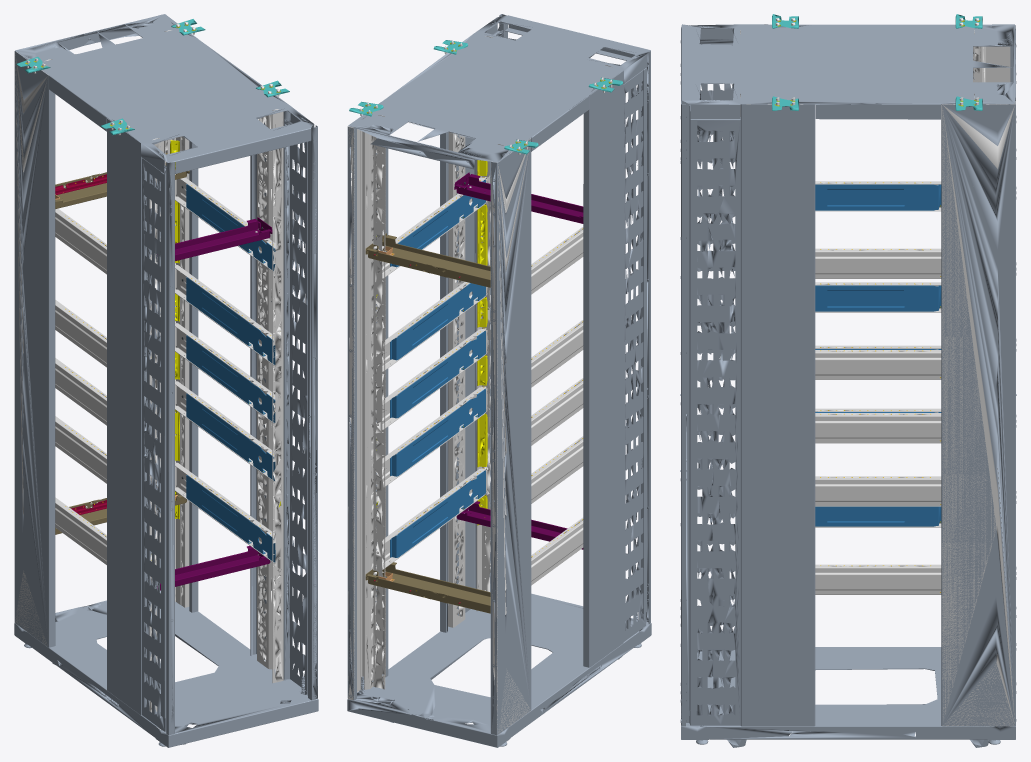
Rendered from nv-mgx-rack-v1-2-rev7.mobile.glb.
3 renders of one model, left to right at view 1: azimuth 30°, elevation 25°; view 2: azimuth 150°, elevation 25°; view 3: azimuth 270°, elevation 25°, orthographic. The views are drawn at different scales.
Visible parts, largest first — view 1: NVIDIA_COVER_TOP_V2_MOD [0001], NVIDIA_POST_LR_OUTER_V2_MOD [0077], NVIDIA_LC_OUTER_V2_MOD [0075], NVIDIA_BASE_V2_MOD [0111], NVIDIA_POST_RF_1_V2_MOD [0073], NVIDIA_POST_LF_2_V2_MOD [0074], NVIDIA_LF_CORNER_V2_MOD [0043], NV_POST_ORV3_PST_SAME_V2_MOD [0205], SOLID [0212], NVIDIA_RF_CORNER_V2_MOD [0058], NVIDIA_POST_RC_OUTER_V2_MOD [0076], NVIDIA_POST_RR_OUTER_V2_MOD [0094] (+23 smaller); view 2: NVIDIA_COVER_TOP_V2_MOD [0001], NVIDIA_LC_OUTER_V2_MOD [0075], NVIDIA_POST_LR_OUTER_V2_MOD [0077], NVIDIA_BASE_V2_MOD [0111], NVIDIA_POST_LF_2_V2_MOD [0074], NV_POST_ORV3_PST_SAME_V2_MOD [0204], NVIDIA_POST_RR_OUTER_V2_MOD [0094], SOLID [0214], NVIDIA_POST_RC_OUTER_V2_MOD [0076], NV_POST_RR_OUTER_2-5MM_V1-2 [0186], NV_POST_ORV3_PST_SAME_V2_MOD [0205], NVIDIA_LF_CORNER_V2_MOD [0043] (+23 smaller); view 3: NVIDIA_POST_RC_OUTER_V2_MOD [0076], NVIDIA_POST_RR_OUTER_V2_MOD [0094], NVIDIA_COVER_TOP_V2_MOD [0001], NVIDIA_POST_RF_1_V2_MOD [0073], NV_POST_RR_OUTER_2-5MM_V1-2 [0186], NVIDIA_BASE_V2_MOD [0111], NVIDIA_RF_CORNER_V2_MOD [0058], SOLID [0866], SOLID [0630], SOLID [0748], SOLID [0984], SOLID [1102] (+7 smaller).
Part boxes in pixels (x1,y1,x2,y2): NVIDIA_COVER_TOP_V2_MOD [0001]: (15,14,314,173); NVIDIA_POST_LR_OUTER_V2_MOD [0077]: (14,51,55,647); NVIDIA_LC_OUTER_V2_MOD [0075]: (107,118,145,714); NVIDIA_BASE_V2_MOD [0111]: (14,590,318,747); NVIDIA_POST_RF_1_V2_MOD [0073]: (284,119,307,695); NVIDIA_POST_LF_2_V2_MOD [0074]: (142,158,166,731); NVIDIA_LF_CORNER_V2_MOD [0043]: (161,162,174,735); NV_POST_ORV3_PST_SAME_V2_MOD [0205]: (257,114,275,669); SOLID [0212]: (272,109,283,683); NVIDIA_RF_CORNER_V2_MOD [0058]: (308,125,317,700); NVIDIA_POST_RC_OUTER_V2_MOD [0076]: (250,111,290,680); NVIDIA_POST_RR_OUTER_V2_MOD [0094]: (158,14,198,612); NVIDIA_COVER_TOP_V2_MOD [0001]: (348,15,650,169); NVIDIA_LC_OUTER_V2_MOD [0075]: (583,70,623,667); NVIDIA_POST_LR_OUTER_V2_MOD [0077]: (490,138,531,735); NVIDIA_BASE_V2_MOD [0111]: (347,593,651,747); NVIDIA_POST_LF_2_V2_MOD [0074]: (623,68,645,641); NV_POST_ORV3_PST_SAME_V2_MOD [0204]: (360,130,373,689); NVIDIA_POST_RR_OUTER_V2_MOD [0094]: (347,102,388,700); SOLID [0214]: (373,115,385,689); NVIDIA_POST_RC_OUTER_V2_MOD [0076]: (440,132,476,632); NV_POST_RR_OUTER_2-5MM_V1-2 [0186]: (348,126,385,700); NV_POST_ORV3_PST_SAME_V2_MOD [0205]: (448,132,465,627); NVIDIA_LF_CORNER_V2_MOD [0043]: (643,50,650,625); NVIDIA_POST_RC_OUTER_V2_MOD [0076]: (740,104,815,726); NVIDIA_POST_RR_OUTER_V2_MOD [0094]: (941,101,1015,726); NVIDIA_COVER_TOP_V2_MOD [0001]: (681,24,1015,119); NVIDIA_POST_RF_1_V2_MOD [0073]: (690,117,740,725); NV_POST_RR_OUTER_2-5MM_V1-2 [0186]: (942,101,1015,726); NVIDIA_BASE_V2_MOD [0111]: (681,647,1015,739); NVIDIA_RF_CORNER_V2_MOD [0058]: (681,101,697,726); SOLID [0866]: (815,476,941,506); SOLID [0630]: (815,564,941,594); SOLID [0748]: (815,248,941,278); SOLID [0984]: (815,413,941,443); SOLID [1102]: (815,350,941,379).
Size of the model in its own units: 0.7088 by 2.31 by 1.07.
